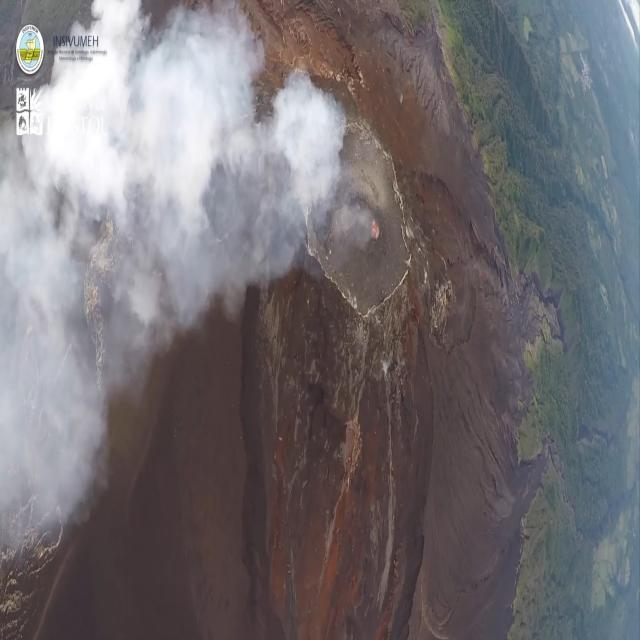Plume: (0, 0, 322, 532)
Summit: (292, 96, 440, 344)
